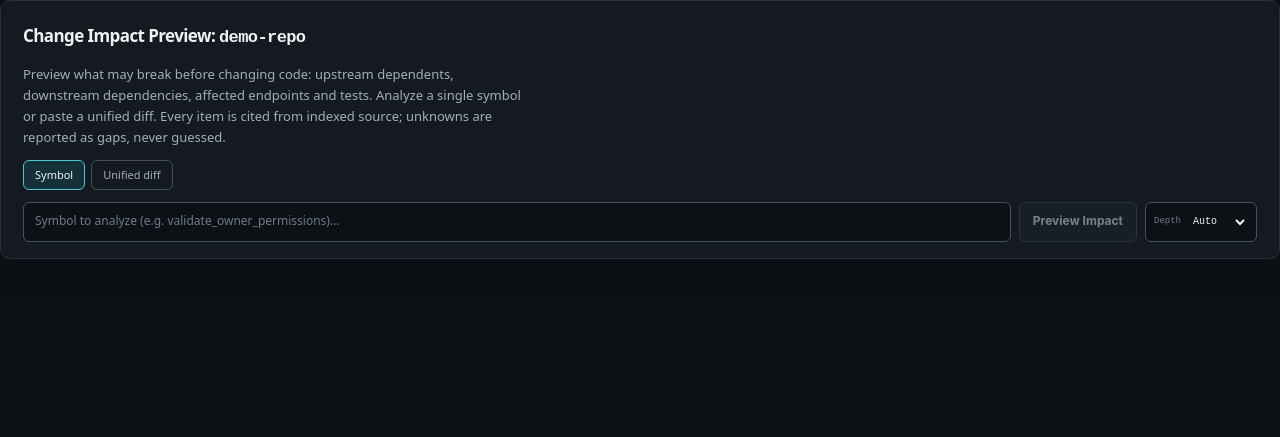
ImpactPanel › shows the honest zero-impact state for an isolated symbol
The image size is (1280, 437).
Type "lonely" into the field named "Impact target symbol".
click(517, 222); type("lonely")  # box 23,202 -> 1011,242
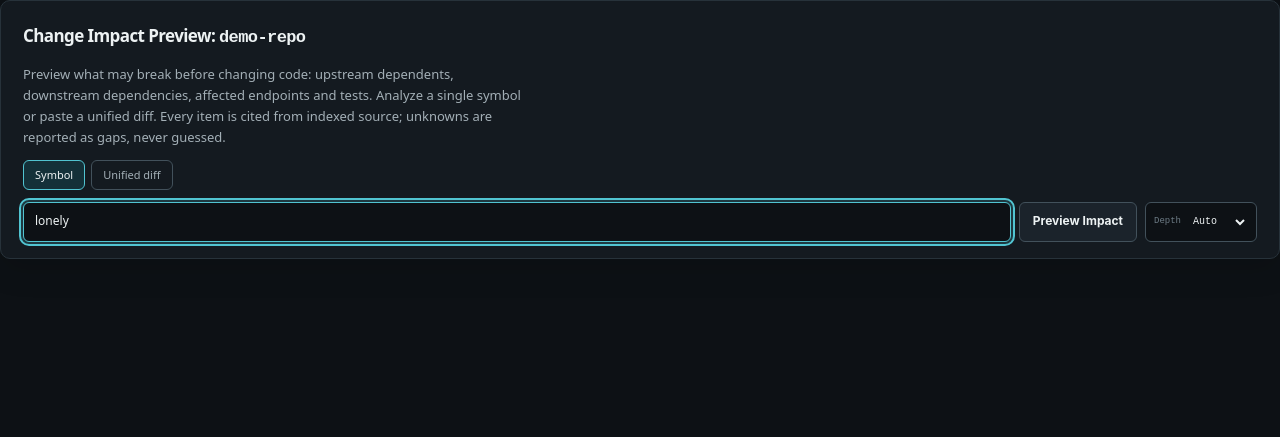
Click the button "Preview Impact".
click(1078, 222)  # box 1019,202 -> 1137,242
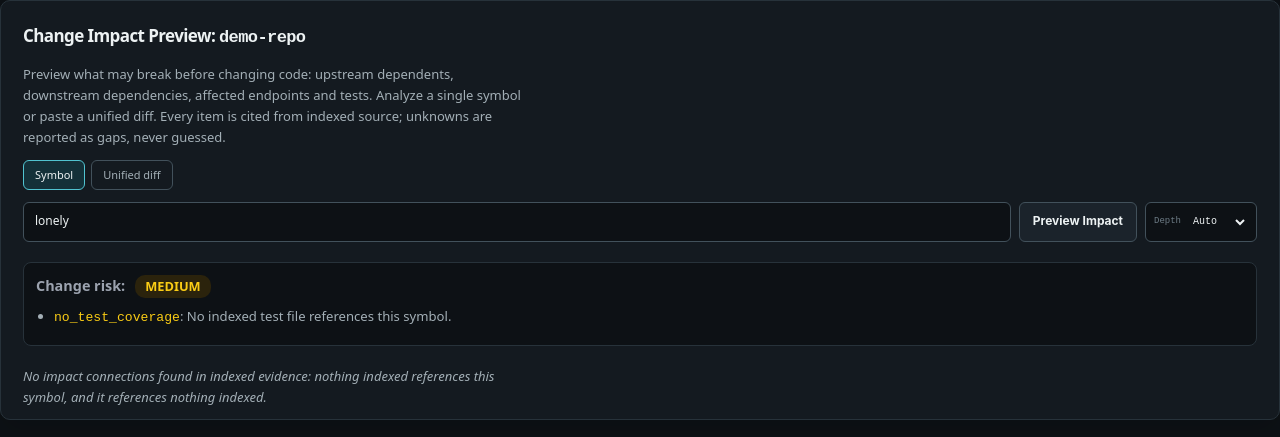
Expected: the text "No impact connections found in indexed evidence" is shown, 23,367 -> 494,406
Expected: the text "no_test_coverage" is shown, 54,310 -> 180,325
